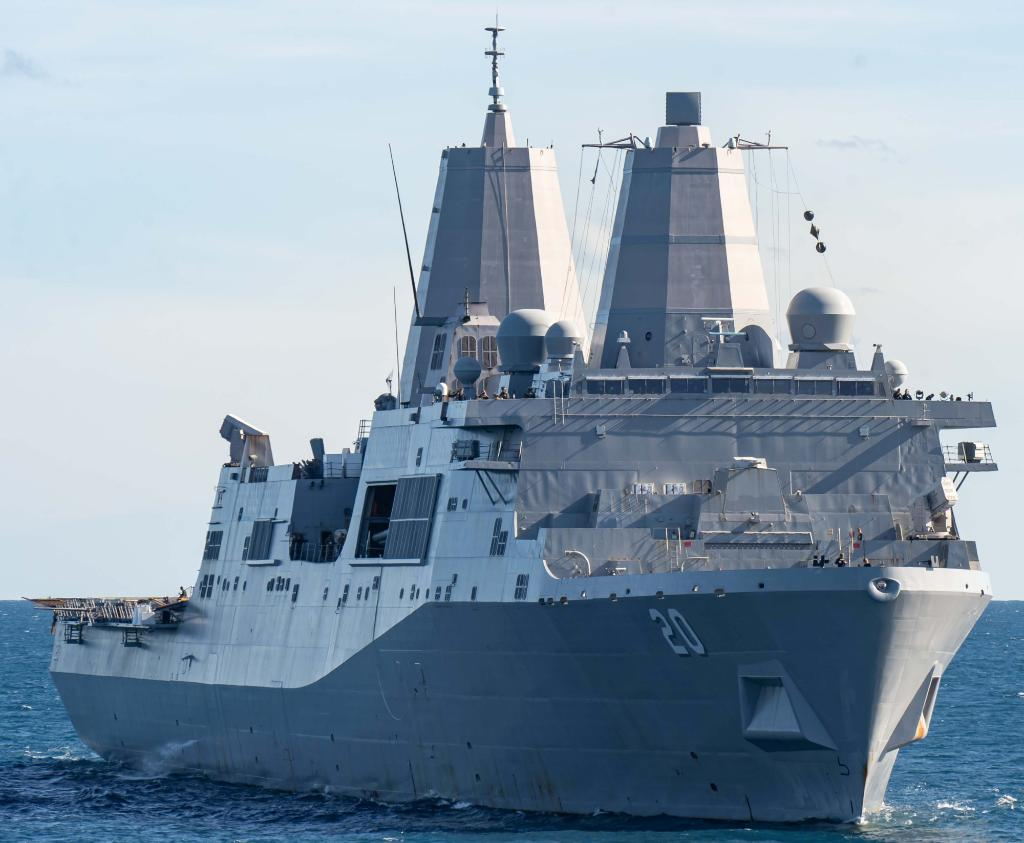Warship: (36, 0, 1024, 843)
